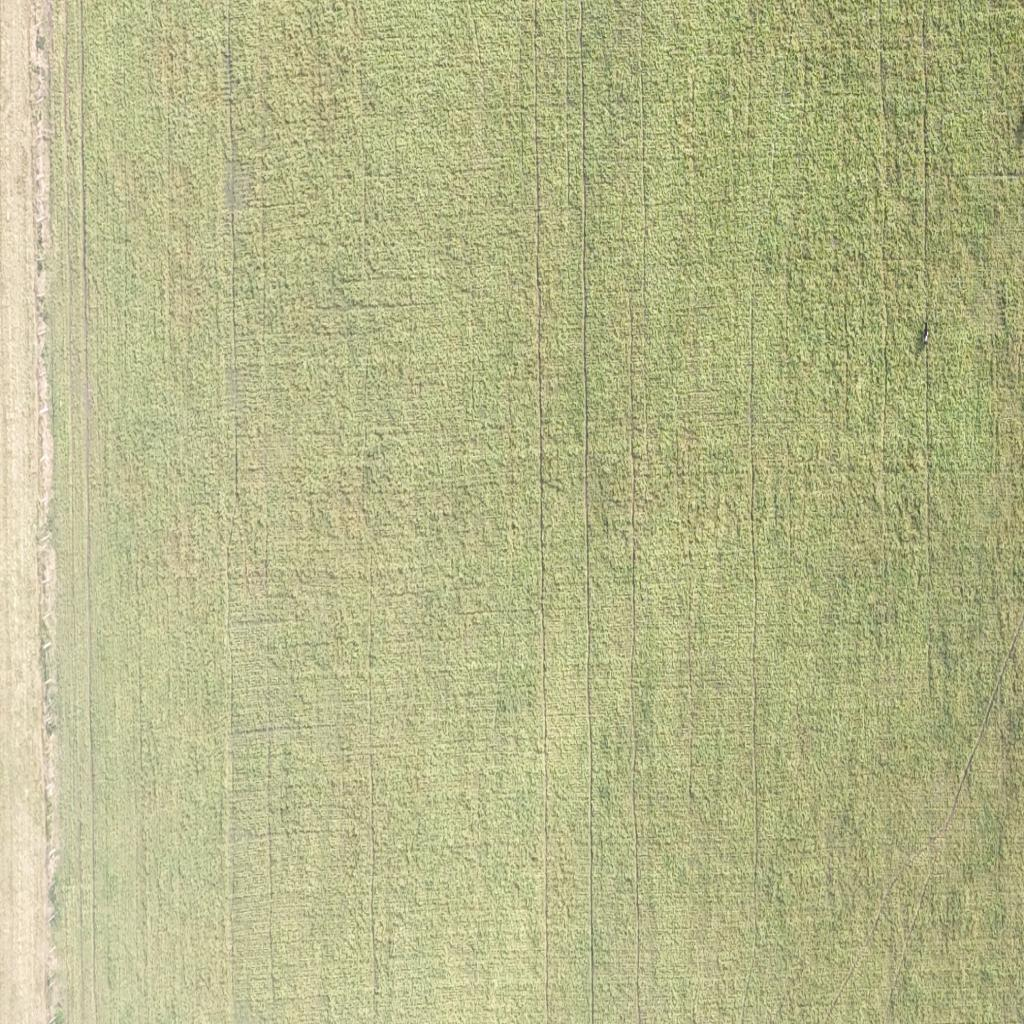cow: (920, 320, 930, 350)
